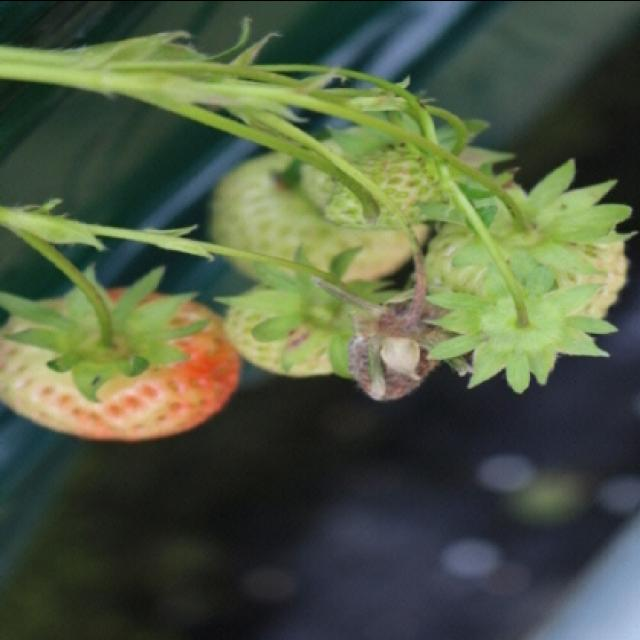Gray Mold: (350, 270, 456, 402)
